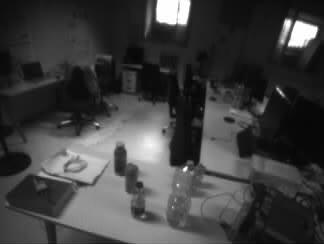Bottle: (170, 162, 191, 225), (132, 184, 145, 218), (114, 142, 128, 173)
Tin can: (125, 165, 139, 193)
